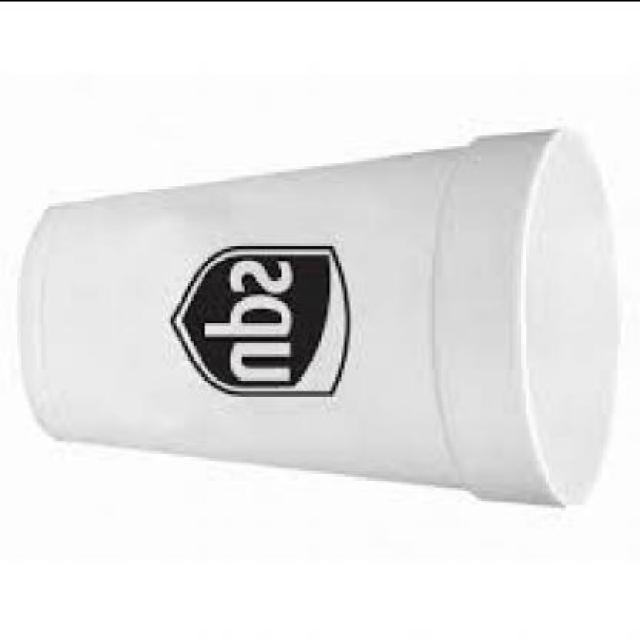PAPER: (23, 131, 626, 512)
